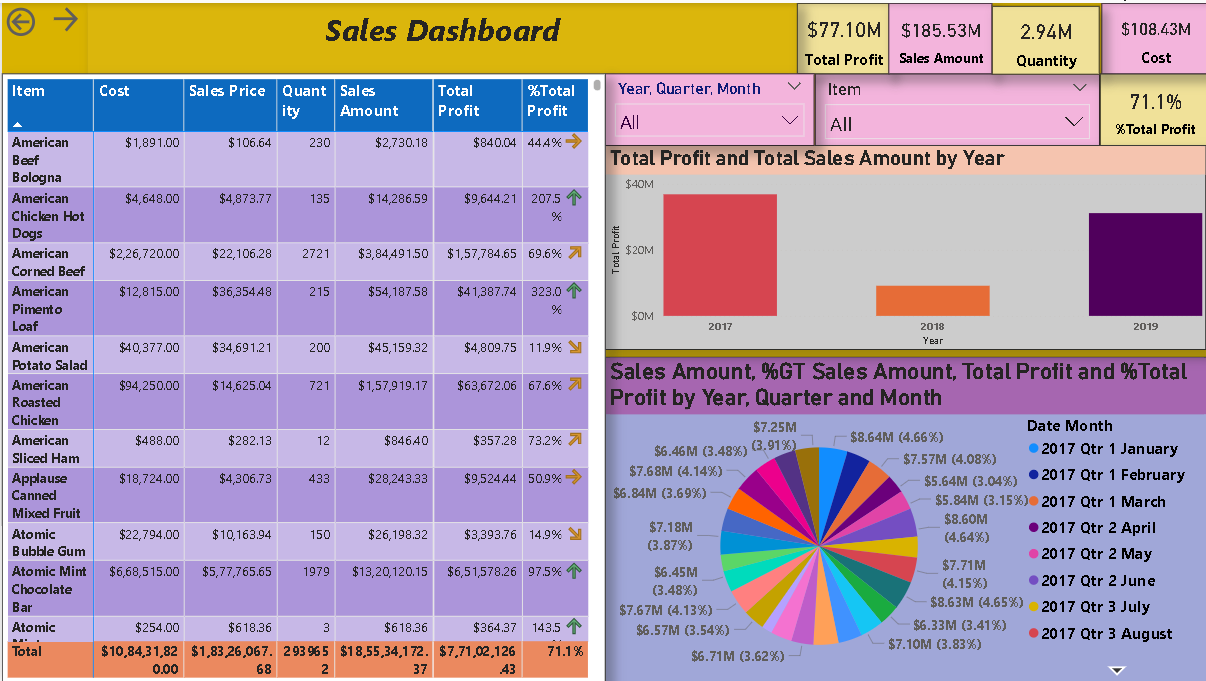

The dashboard page shown, as its layout file describes it:
{"tool":"powerbi","page":{"name":"Sales Dashboard","canvas":[1280,720],"ordinal":1},"visuals":[{"type":"slicer","fields":{"Values":["Sales_Details.Item"]},"box":[861.7,75.1,301.8,76.4],"z":0},{"type":"card","fields":{"Values":["ImpMeasures.Profits%"]},"box":[1164.8,75.1,115.2,76.4],"z":1000},{"type":"card","fields":{"Values":["ImpMeasures.Total Profit Margin"]},"box":[842.9,0,97.7,75.1],"z":2000},{"type":"card","fields":{"Values":["ImpMeasures.Cost"]},"box":[1166,0,114,75.1],"z":3000},{"type":"textbox","box":[90.2,0,752.7,75.1],"z":4000},{"type":"card","fields":{"Values":["ImpMeasures.Revenue"]},"box":[940.6,0,110.2,75.1],"z":5000},{"type":"pieChart","fields":{"Category":["Date.Date.Variation.Date Hierarchy.Year","Date.Date.Variation.Date Hierarchy.Quarter","Date.Date.Variation.Date Hierarchy.Month"],"Y":["ImpMeasures.Sales Amount"]},"box":[640,375.7,640,344.4],"z":6000},{"type":"actionButton","box":[0,0,100,40],"z":7000},{"type":"card","fields":{"Values":["ImpMeasures.Quantity"]},"box":[1049.5,2.5,114,72.6],"z":8000},{"type":"clusteredColumnChart","fields":{"Category":["Date.Date.Variation.Date Hierarchy.Year","Date.Date.Variation.Date Hierarchy.Quarter","Date.Date.Variation.Date Hierarchy.Month"],"Y":["ImpMeasures.Total Profit"]},"box":[640,151.5,637.5,216.7],"z":9000},{"type":"slicer","fields":{"Values":["Date.Date.Variation.Date Hierarchy.Year","Date.Date.Variation.Date Hierarchy.Quarter","Date.Date.Variation.Date Hierarchy.Month"]},"box":[640,75.1,221.7,76.4],"z":10000},{"type":"actionButton","box":[50,0,100,35],"z":11000},{"type":"pivotTable","fields":{"Values":["ImpMeasures.Cost","Sum(Sales_Details.Sales Price)","ImpMeasures.Quantity","ImpMeasures.Revenue","ImpMeasures.Profits","ImpMeasures.Profits%"],"Rows":["Sales_Details.Item"]},"box":[0,75.1,640,645],"z":12000}]}

Visuals, with their boxes in screenshot pixels (x1, y1, x2, y2), scaled from the page's 1280x720 canvas onto the 1206x681 screenshot:
slicer - Sales_Details.Item: <bbox>812, 71, 1096, 143</bbox>
card - ImpMeasures.Profits%: <bbox>1097, 71, 1205, 143</bbox>
card - ImpMeasures.Total Profit Margin: <bbox>794, 0, 886, 71</bbox>
card - ImpMeasures.Cost: <bbox>1099, 0, 1205, 71</bbox>
textbox: <bbox>85, 0, 794, 71</bbox>
card - ImpMeasures.Revenue: <bbox>886, 0, 990, 71</bbox>
pieChart - Date.Date.Variation.Date Hierarchy.Year x Date.Date.Variation.Date Hierarchy.Quarter: <bbox>603, 355, 1205, 680</bbox>
actionButton: <bbox>0, 0, 94, 38</bbox>
card - ImpMeasures.Quantity: <bbox>989, 2, 1096, 71</bbox>
clusteredColumnChart - Date.Date.Variation.Date Hierarchy.Year x Date.Date.Variation.Date Hierarchy.Quarter: <bbox>603, 143, 1204, 348</bbox>
slicer - Date.Date.Variation.Date Hierarchy.Year x Date.Date.Variation.Date Hierarchy.Quarter: <bbox>603, 71, 812, 143</bbox>
actionButton: <bbox>47, 0, 141, 33</bbox>
pivotTable - ImpMeasures.Cost x Sum(Sales_Details.Sales Price): <bbox>0, 71, 603, 680</bbox>
